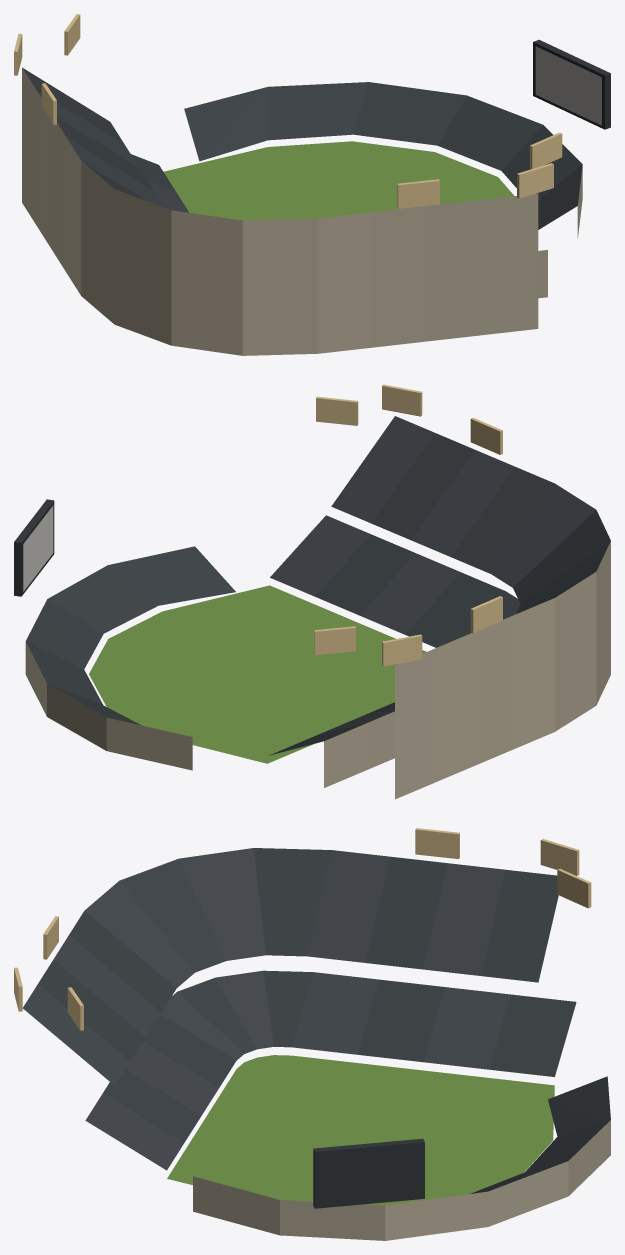
3 views of the same model, one above another, from view 1: azimuth 30°, elevation 25°; view 2: azimuth 150°, elevation 25°; view 3: azimuth 270°, elevation 25° (orthographic). The views are drawn at different scales.
Parts seen in each view (by area): view 1: bronx-ballpark-lod3; view 2: bronx-ballpark-lod3; view 3: bronx-ballpark-lod3.
Boxes of the visible parts, x1,y1,x2,y2 form: bronx-ballpark-lod3: (14, 14, 610, 355); bronx-ballpark-lod3: (14, 384, 610, 799); bronx-ballpark-lod3: (14, 828, 610, 1240).
Size of the model in its own units: 260 by 76.81 by 244.
